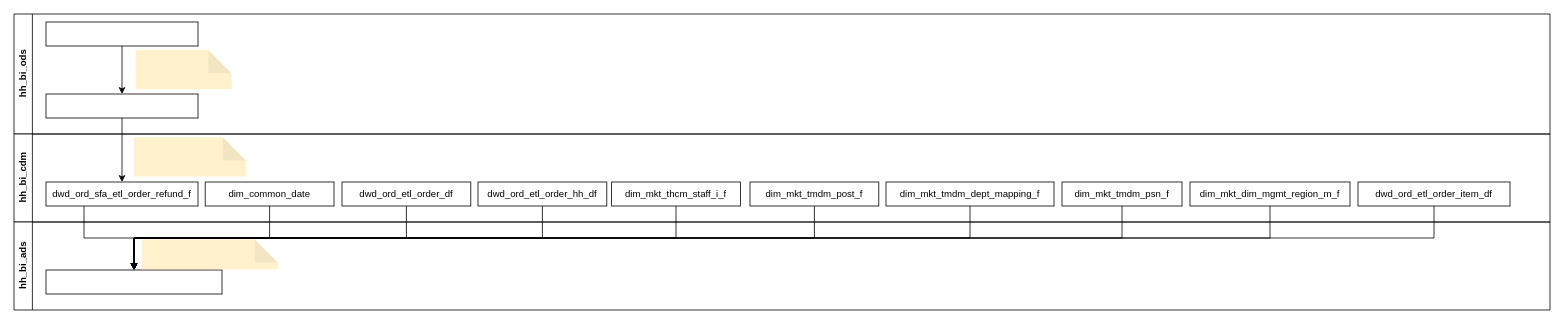
Some shapes in this 1564 by 324 pixel diagram are drawn without their labels. The shapes that lost their labels are listed below. From the top down, each one's centre as x and y in pixels, then its label:
the point at 121,33: s_mm100_etl_order_refund_df
the point at 183,69: 当天取最大更新时间（updated_date）为昨天的数据
the point at 121,105: ods_mm100_etl_order_refund_df
the point at 190,156: 只保留更新时间最大的etl_order_id(拦截订单ID)
the point at 210,254: 每月1号定版上一考核月数据
the point at 133,281: ads_ord_fl_abnormal_order_detail_f
